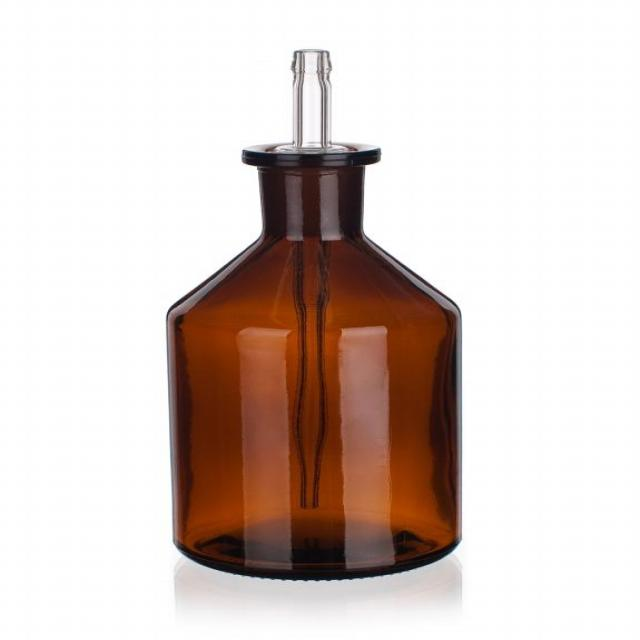non-organic waste: (162, 43, 468, 585)
